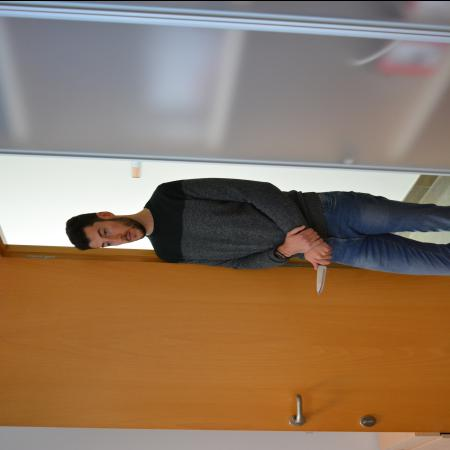long weapon: (310, 258, 333, 298)
